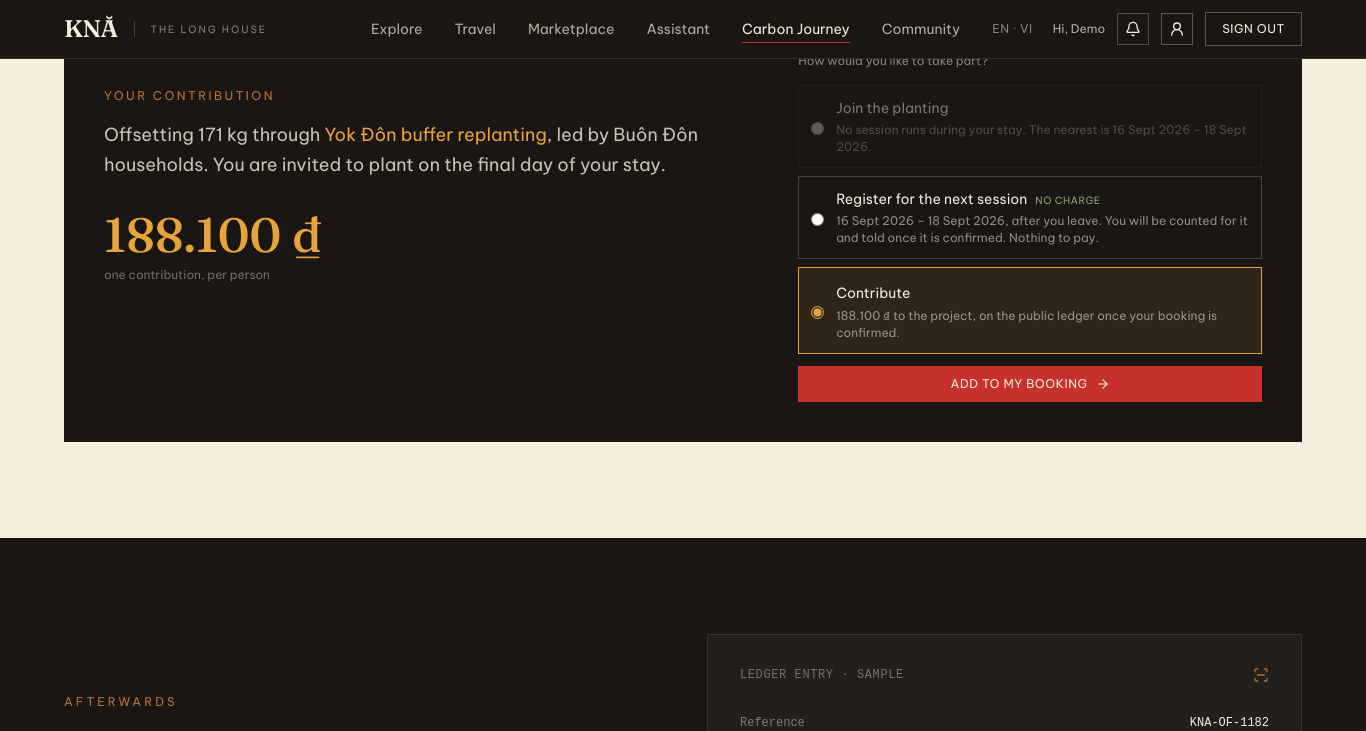
Test case: CarbonTracker offsets › tells the guest it is not on the ledger until the booking is confirmed
The width and height of the screenshot is (1366, 731).
(page scrolled)
Click the button "Add to my booking".
click(1030, 384)  # box [798,366,1262,402]
(page scrolled)
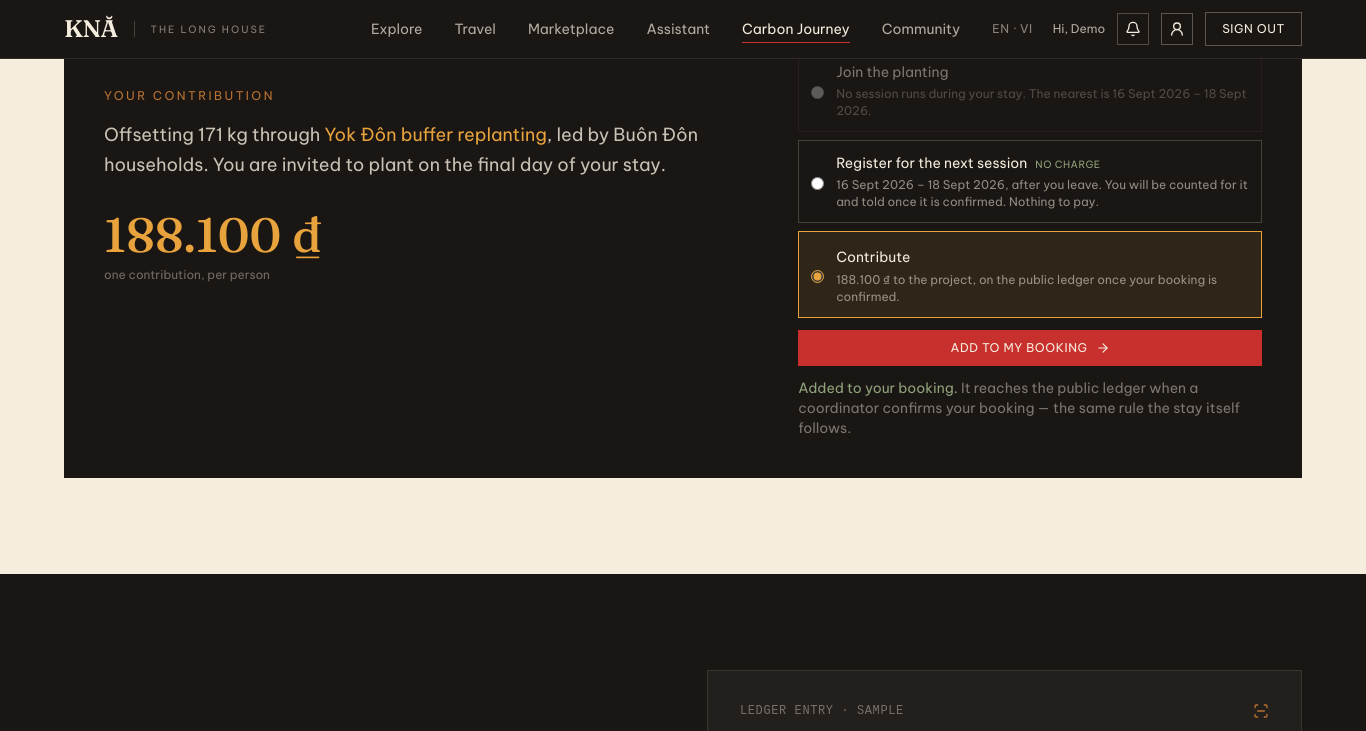
Now the text "Added to your booking" is shown, box [798,379,958,397]
Now the text "reaches the public ledger when a coordinator confirms" is shown, box [798,379,1240,437]
